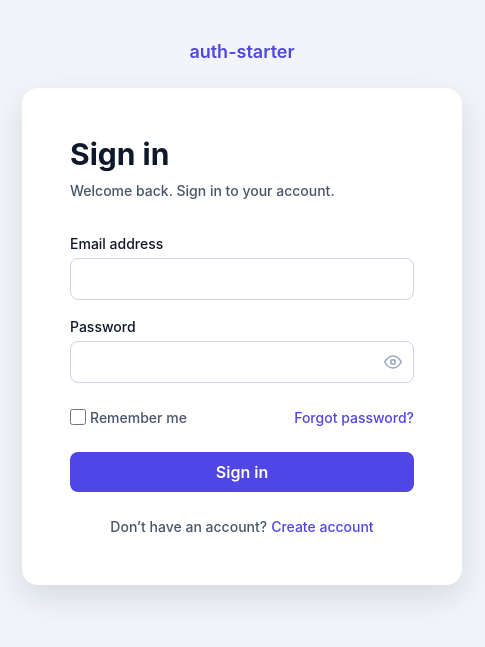
Test case: LoginPage › Failed login › shows form error when login API throws an Error
In the field labelled "Email address": [242, 278] box [70, 258, 414, 300], type "test@example.com"
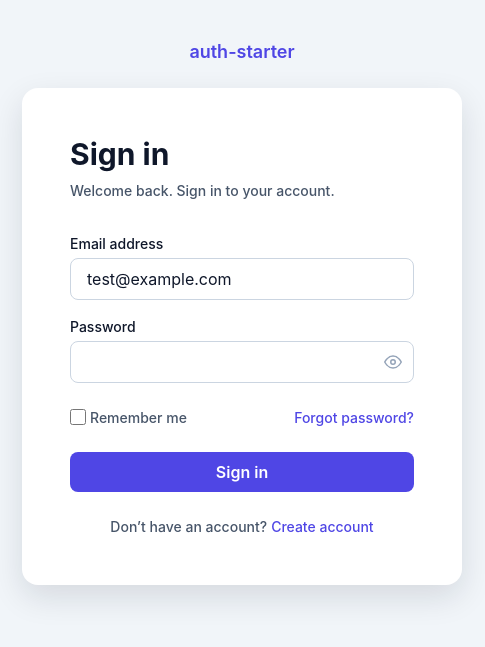
In the password field labelled "Password": [242, 362] box [70, 340, 414, 382], type "wrongpassword"
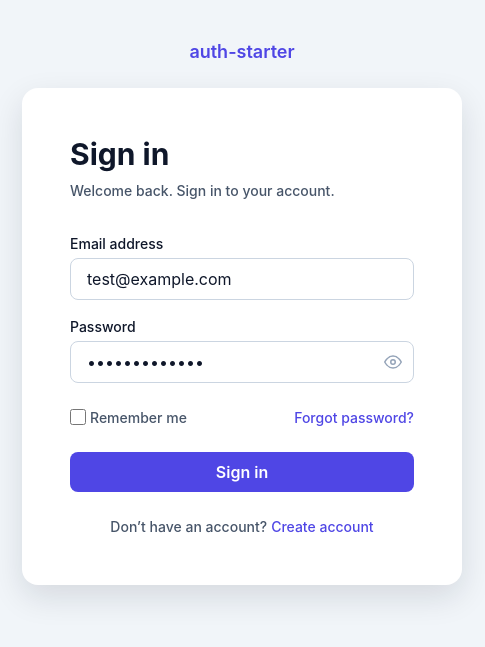
Submit the form
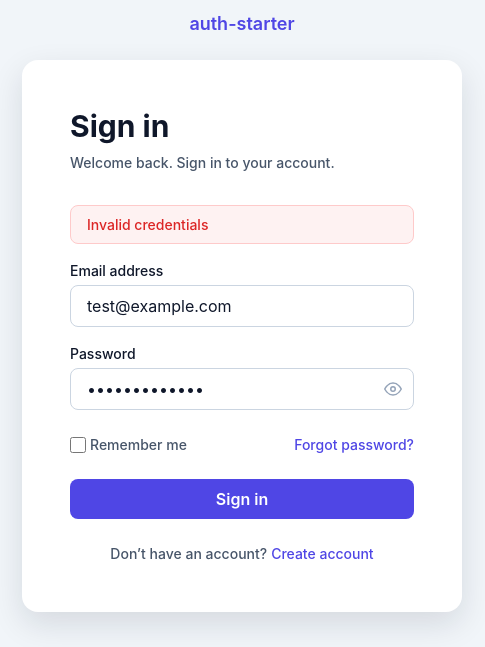
Expected: the message reads "Invalid credentials", [87, 216, 208, 233]
